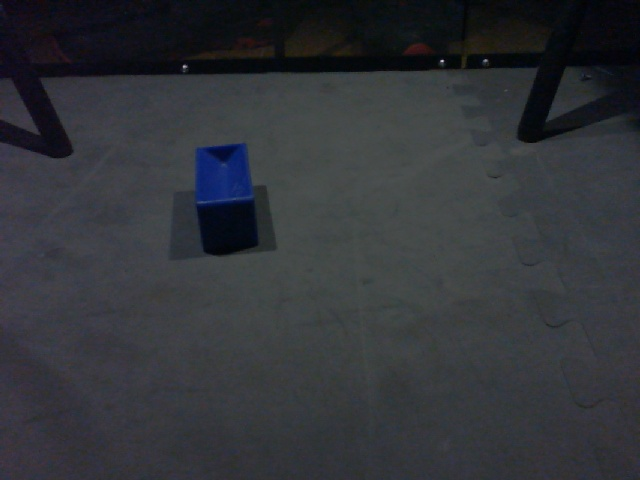BlueSample: (192, 140, 260, 255)
